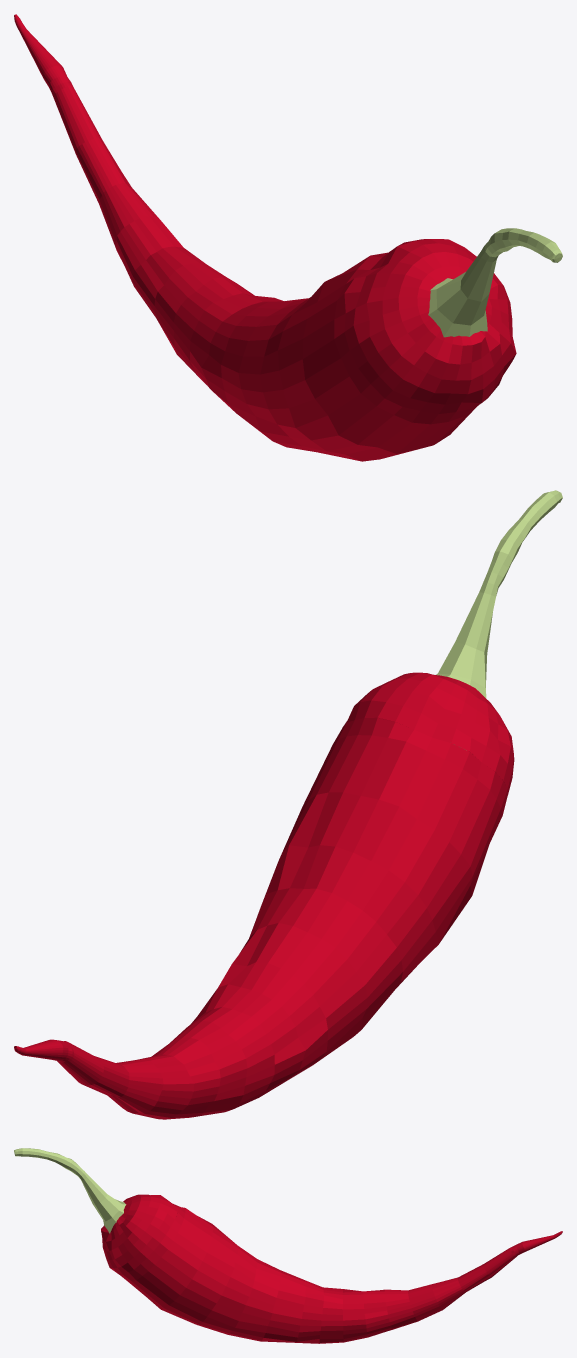
Rendered from Chili.fbx.
3 views of the same model, one above another, from view 1: azimuth 30°, elevation 25°; view 2: azimuth 150°, elevation 25°; view 3: azimuth 270°, elevation 25° (orthographic). The views are drawn at different scales.
Parts seen in each view (by area): view 1: Sweep_2; view 2: Sweep_2; view 3: Sweep_2.
Part boxes in pixels (box(x1,y1,x2,y2)): Sweep_2: box(14, 14, 562, 461); Sweep_2: box(14, 490, 562, 1119); Sweep_2: box(14, 1148, 562, 1343).
Size of the model in its own units: 79.12 by 174 by 450.
